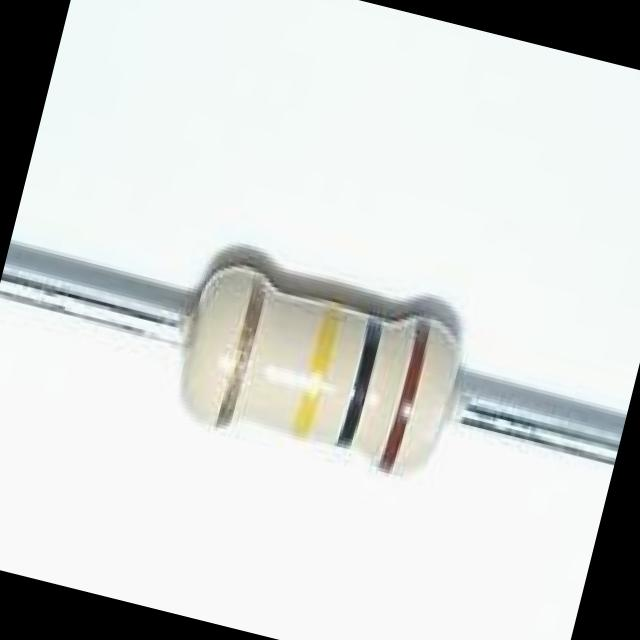Resistor: (146, 265, 504, 476)
black: (335, 306, 387, 452)
brown: (378, 309, 434, 479)
gold: (215, 255, 274, 428)
yellow: (291, 292, 347, 443)
